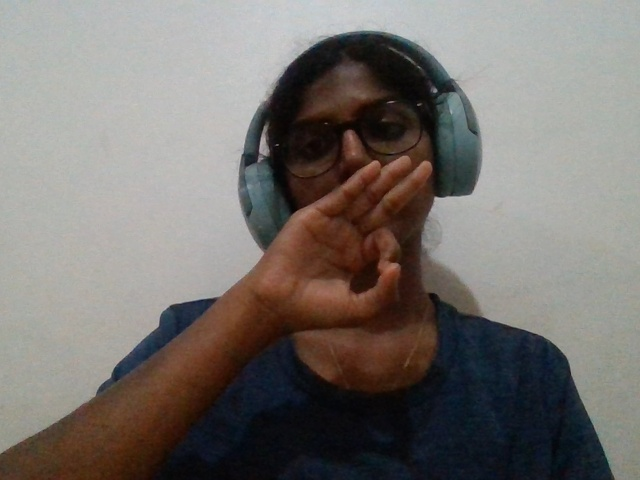F: (229, 115, 473, 467)
